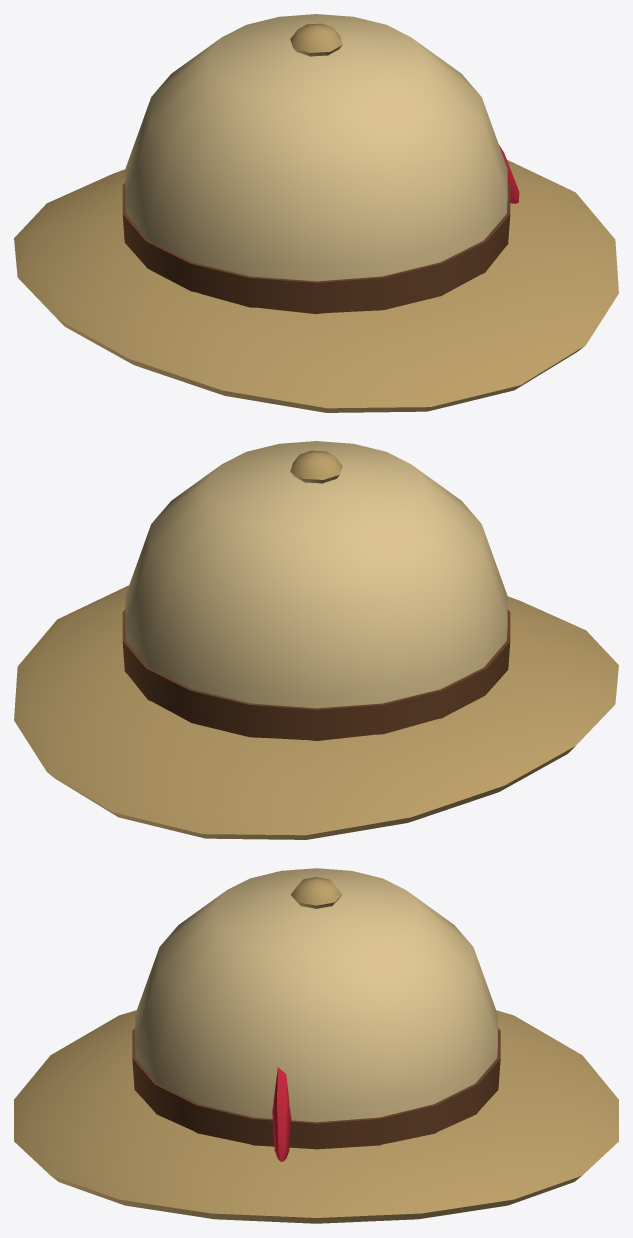
Rendered from H04_ExplorerHelmet.fbx.
The picture shows the model from 3 angles, top to bottom: view 1: azimuth 30°, elevation 25°; view 2: azimuth 150°, elevation 25°; view 3: azimuth 270°, elevation 25°; orthographic projection. The views are drawn at different scales.
Parts seen in each view (by area): view 1: H04_ExplorerHelmet; view 2: H04_ExplorerHelmet; view 3: H04_ExplorerHelmet.
Part boxes in pixels (bbox=[...]): H04_ExplorerHelmet: bbox=[14, 14, 618, 412]; H04_ExplorerHelmet: bbox=[14, 441, 618, 839]; H04_ExplorerHelmet: bbox=[14, 868, 618, 1223].
Size of the model in its own units: 0.66 by 0.3174 by 0.702.
